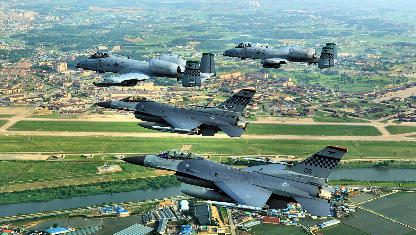A10: (74, 50, 216, 87), (223, 42, 338, 68)
F14: (115, 144, 347, 216), (88, 89, 256, 136)
